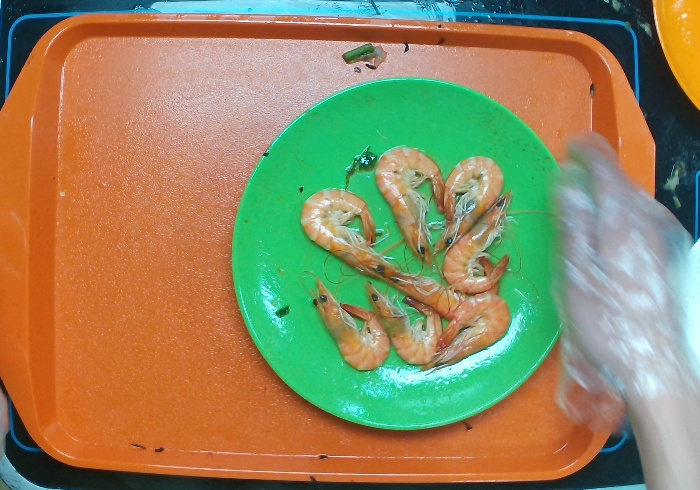HZYJPL-Lv_Se_Yuan_Pan: (232, 78, 591, 431)
